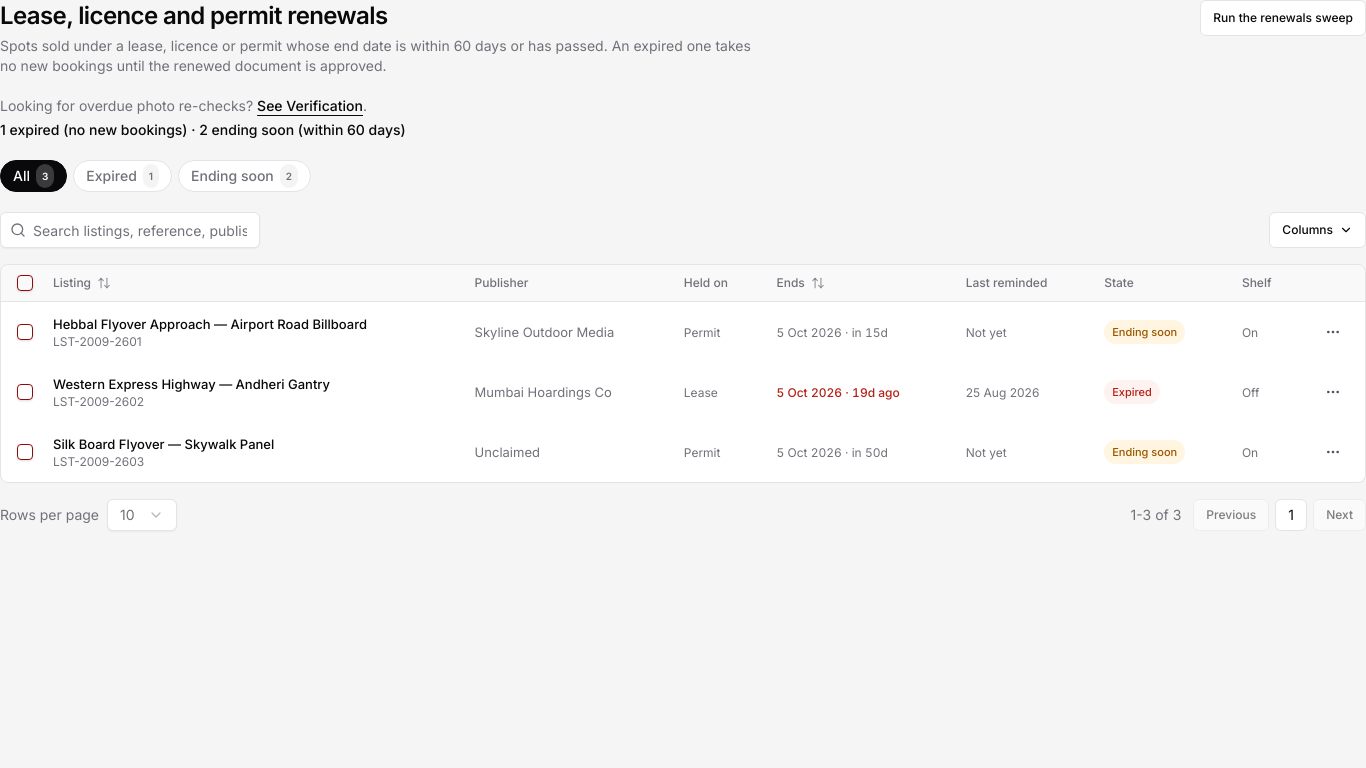
Scenario: the actions › the bulk bar reminds each publisher, skipping a spot with none and keeping a refusal ticked
Click the checkbox named "Select row" next to "LST-2009-2601" at (25, 332), box left=17, top=324, right=33, bottom=340
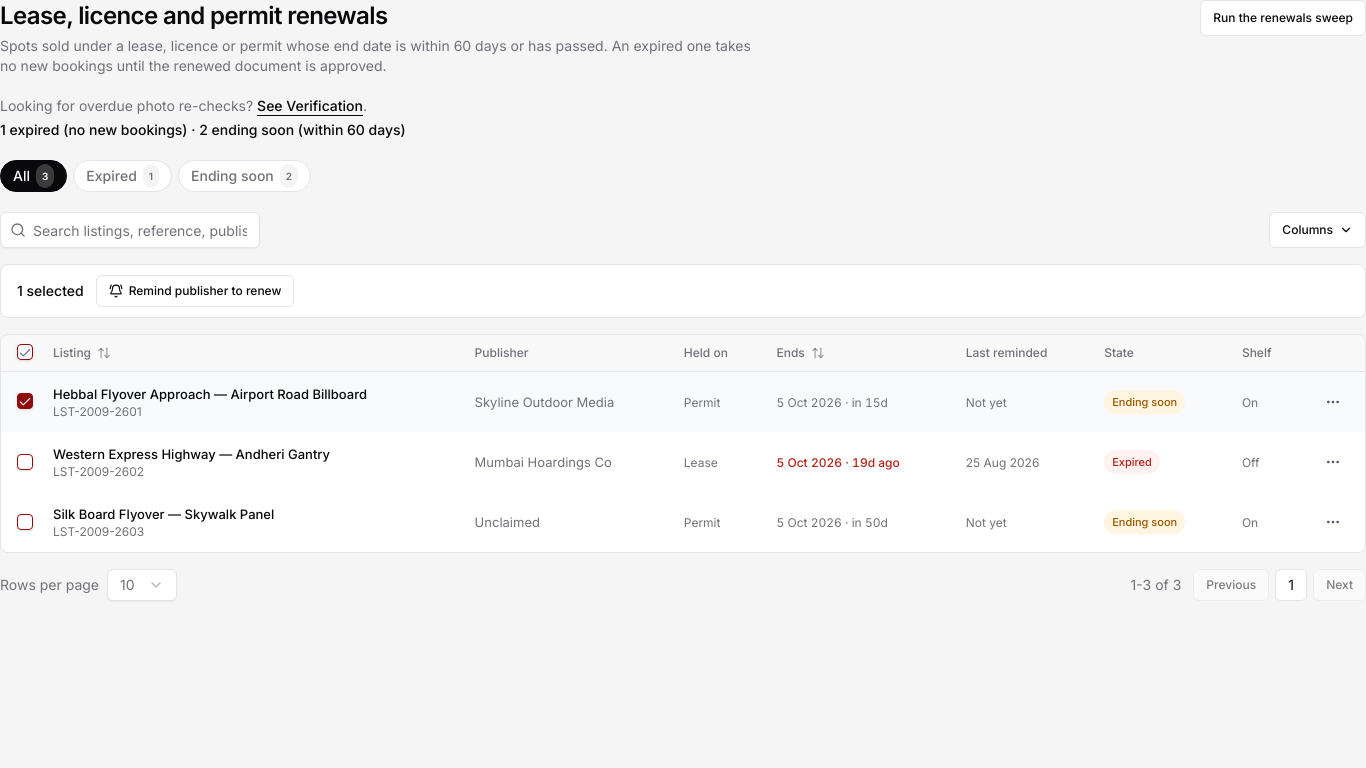
Click the checkbox named "Select row" next to "Western Express Highway — Andheri Gantry" at (25, 462), box left=17, top=454, right=33, bottom=470
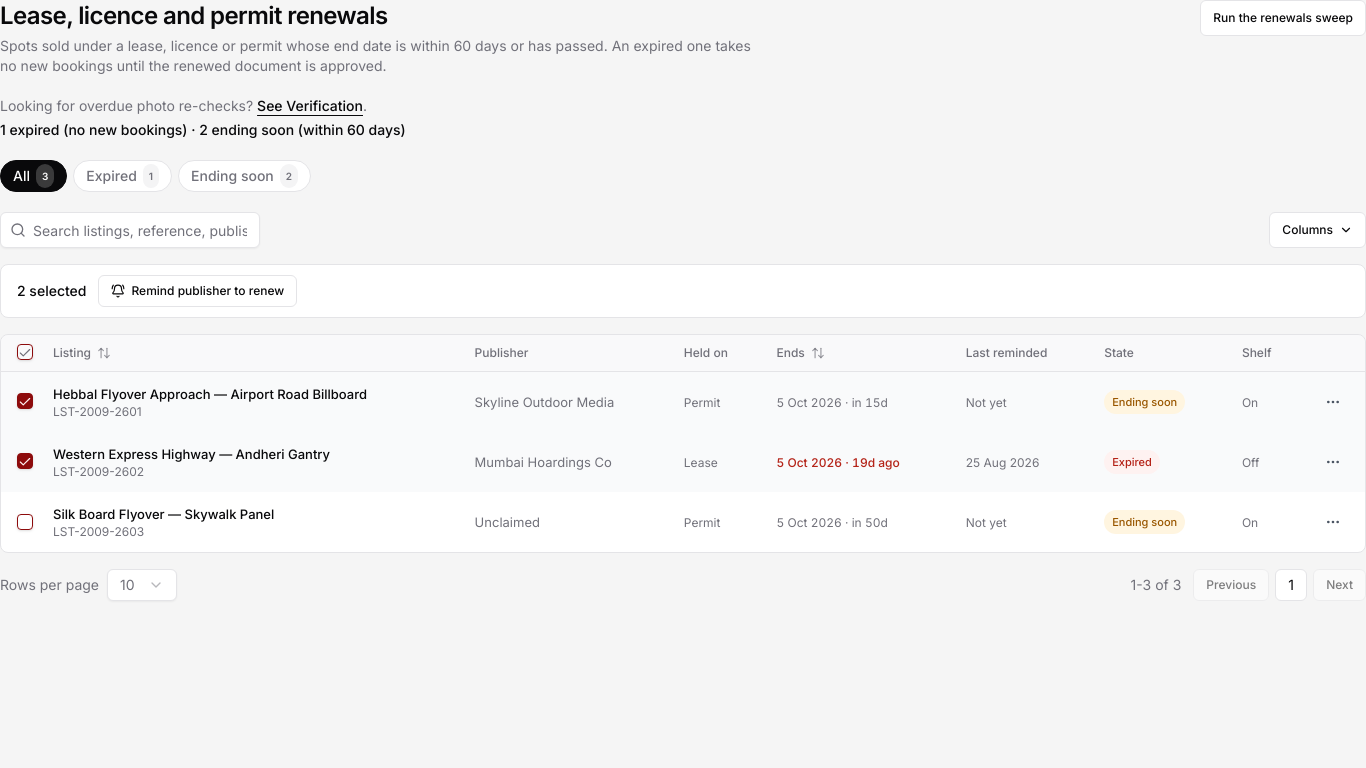
Click the checkbox named "Select row" next to "Silk Board Flyover — Skywalk Panel" at (25, 522), box left=17, top=514, right=33, bottom=530
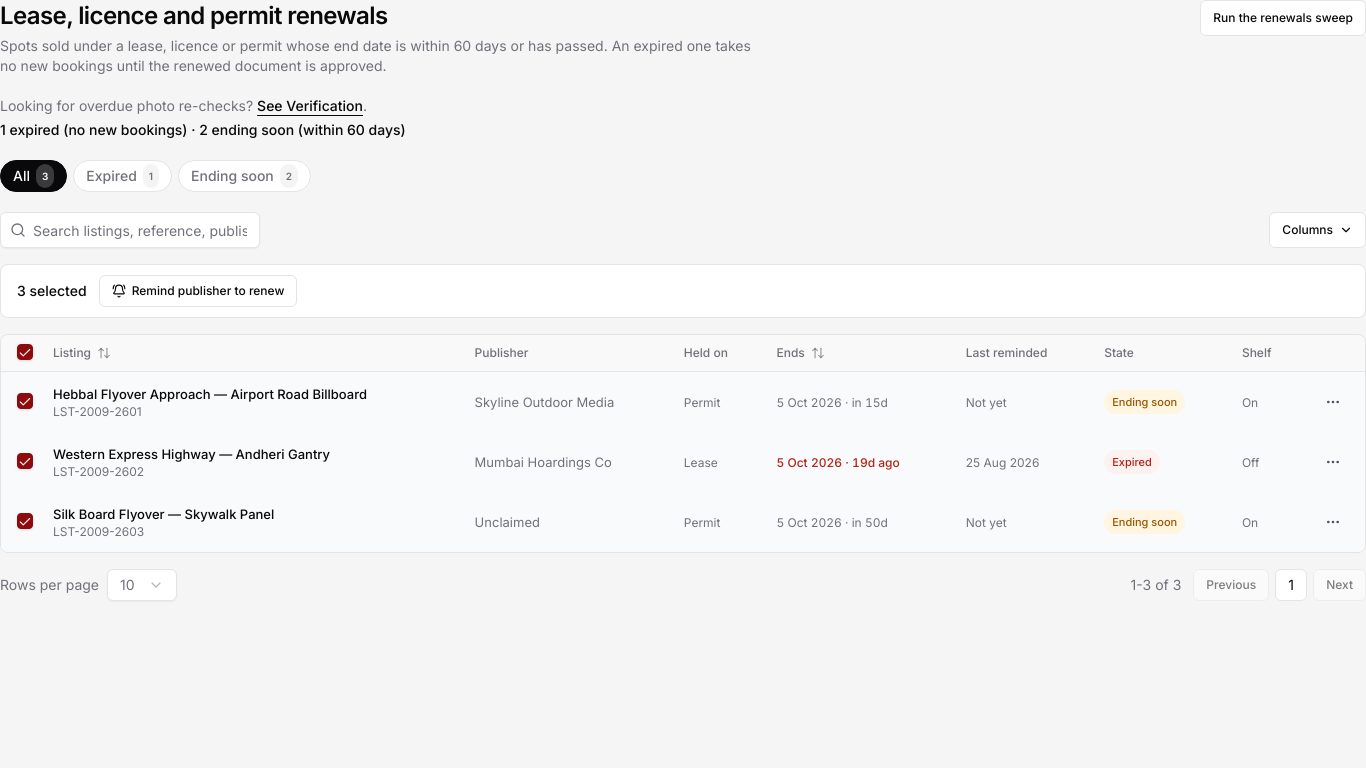
Result: the text "3 selected" is shown at left=17, top=281, right=87, bottom=301
Click the button with test id "bulk-remind-renewal" at (198, 291), box left=99, top=275, right=297, bottom=307
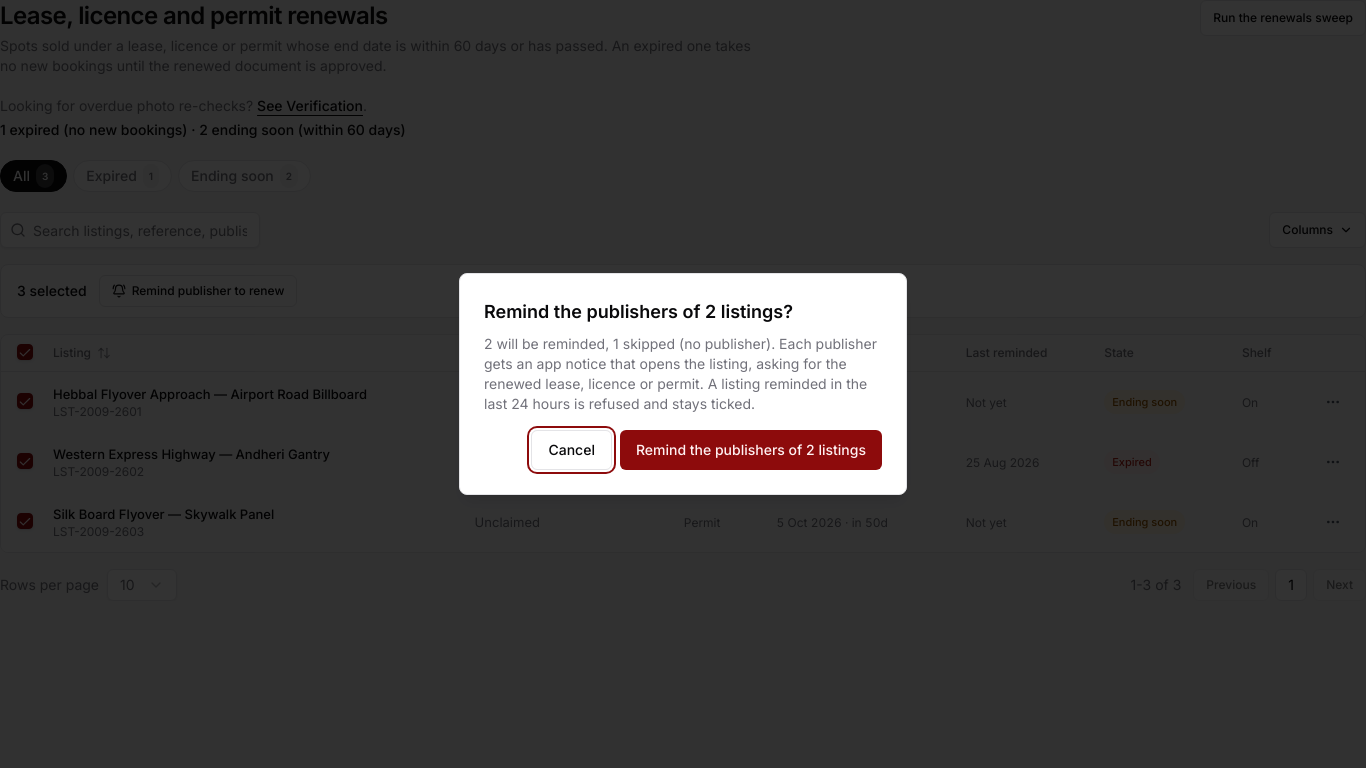
Result: the text "2 will be reminded, 1 skipped (no publisher)." is shown at left=484, top=335, right=877, bottom=412
Click the button "Remind the publishers of 2 listings" at (751, 450), box left=620, top=430, right=882, bottom=470
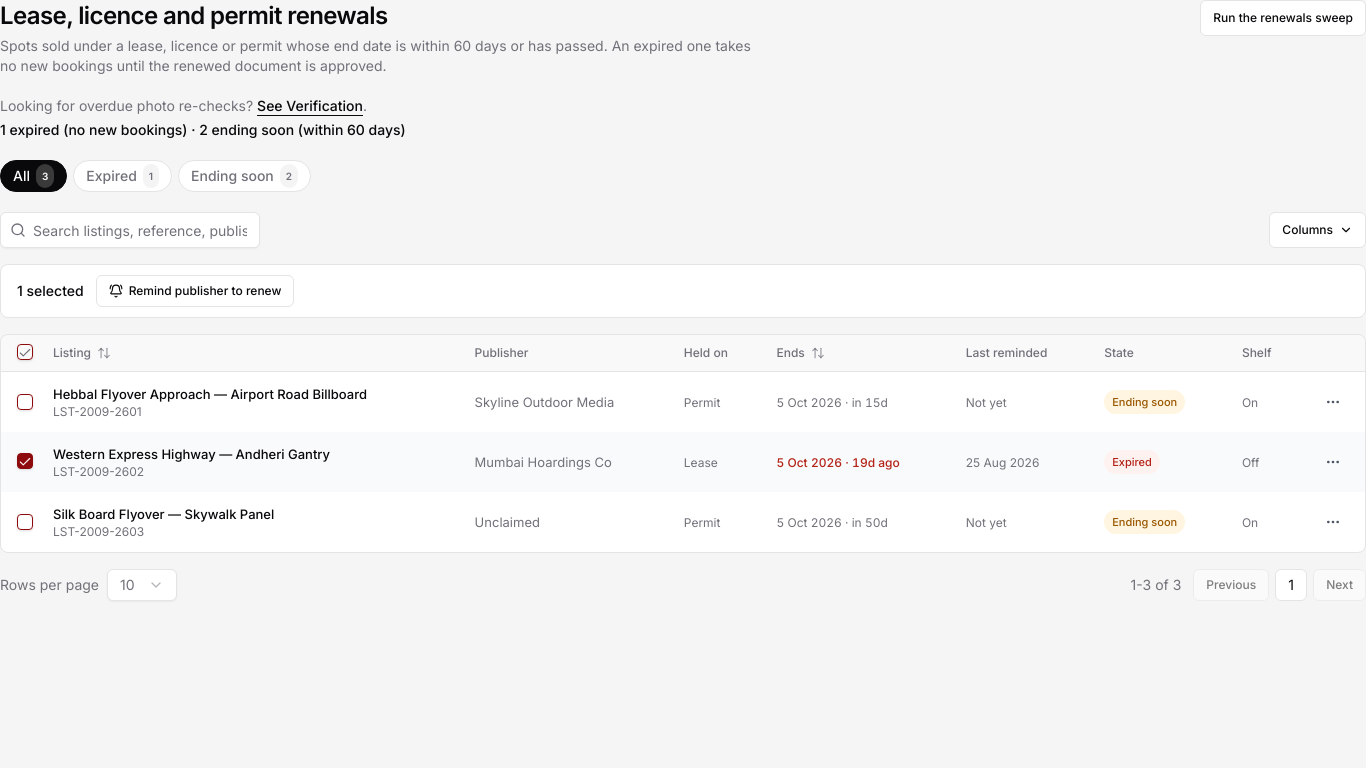
Result: the text "1 selected" is shown at left=17, top=281, right=84, bottom=301
